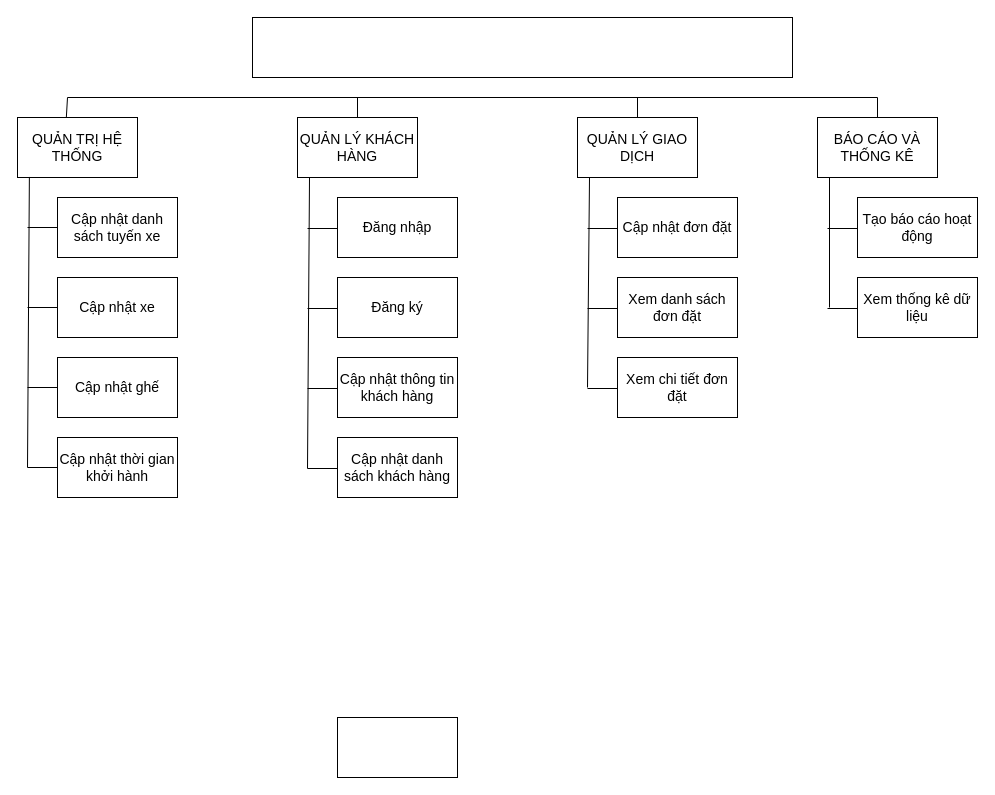
Some shapes in this 995 by 795 pixel diagram are drawn without their labels. The box of each missing label's shape, as (x1, y1, x2, y2) in pixels:
QUẢN LÝ ỨNG DỤNG ĐẶT VÉ XE KHÁCH ONLINE: (252, 16, 792, 78)
Xem chi tiết khách hàng: (336, 716, 458, 778)
